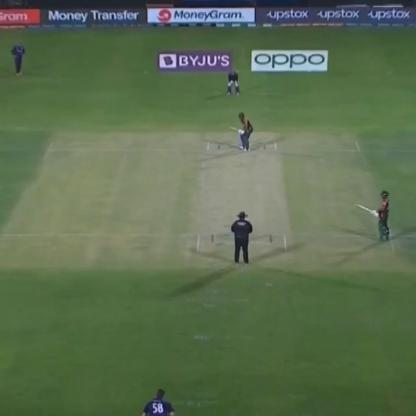bat: (354, 195, 380, 221), (226, 121, 241, 134)
pitch: (198, 126, 294, 257)
